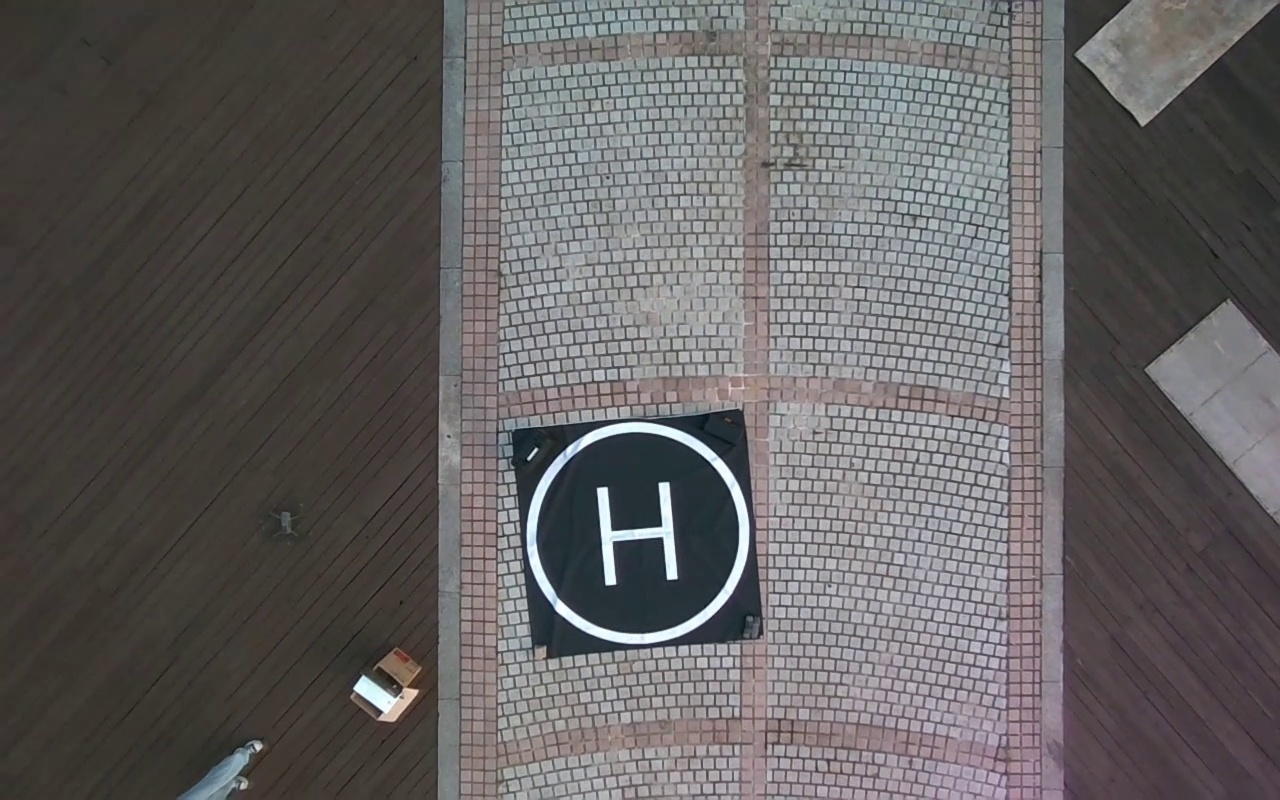H: (598, 482, 680, 586)
heliport: (525, 422, 751, 648)
